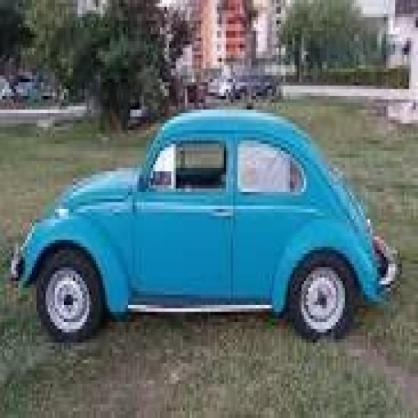car: (14, 111, 407, 342)
